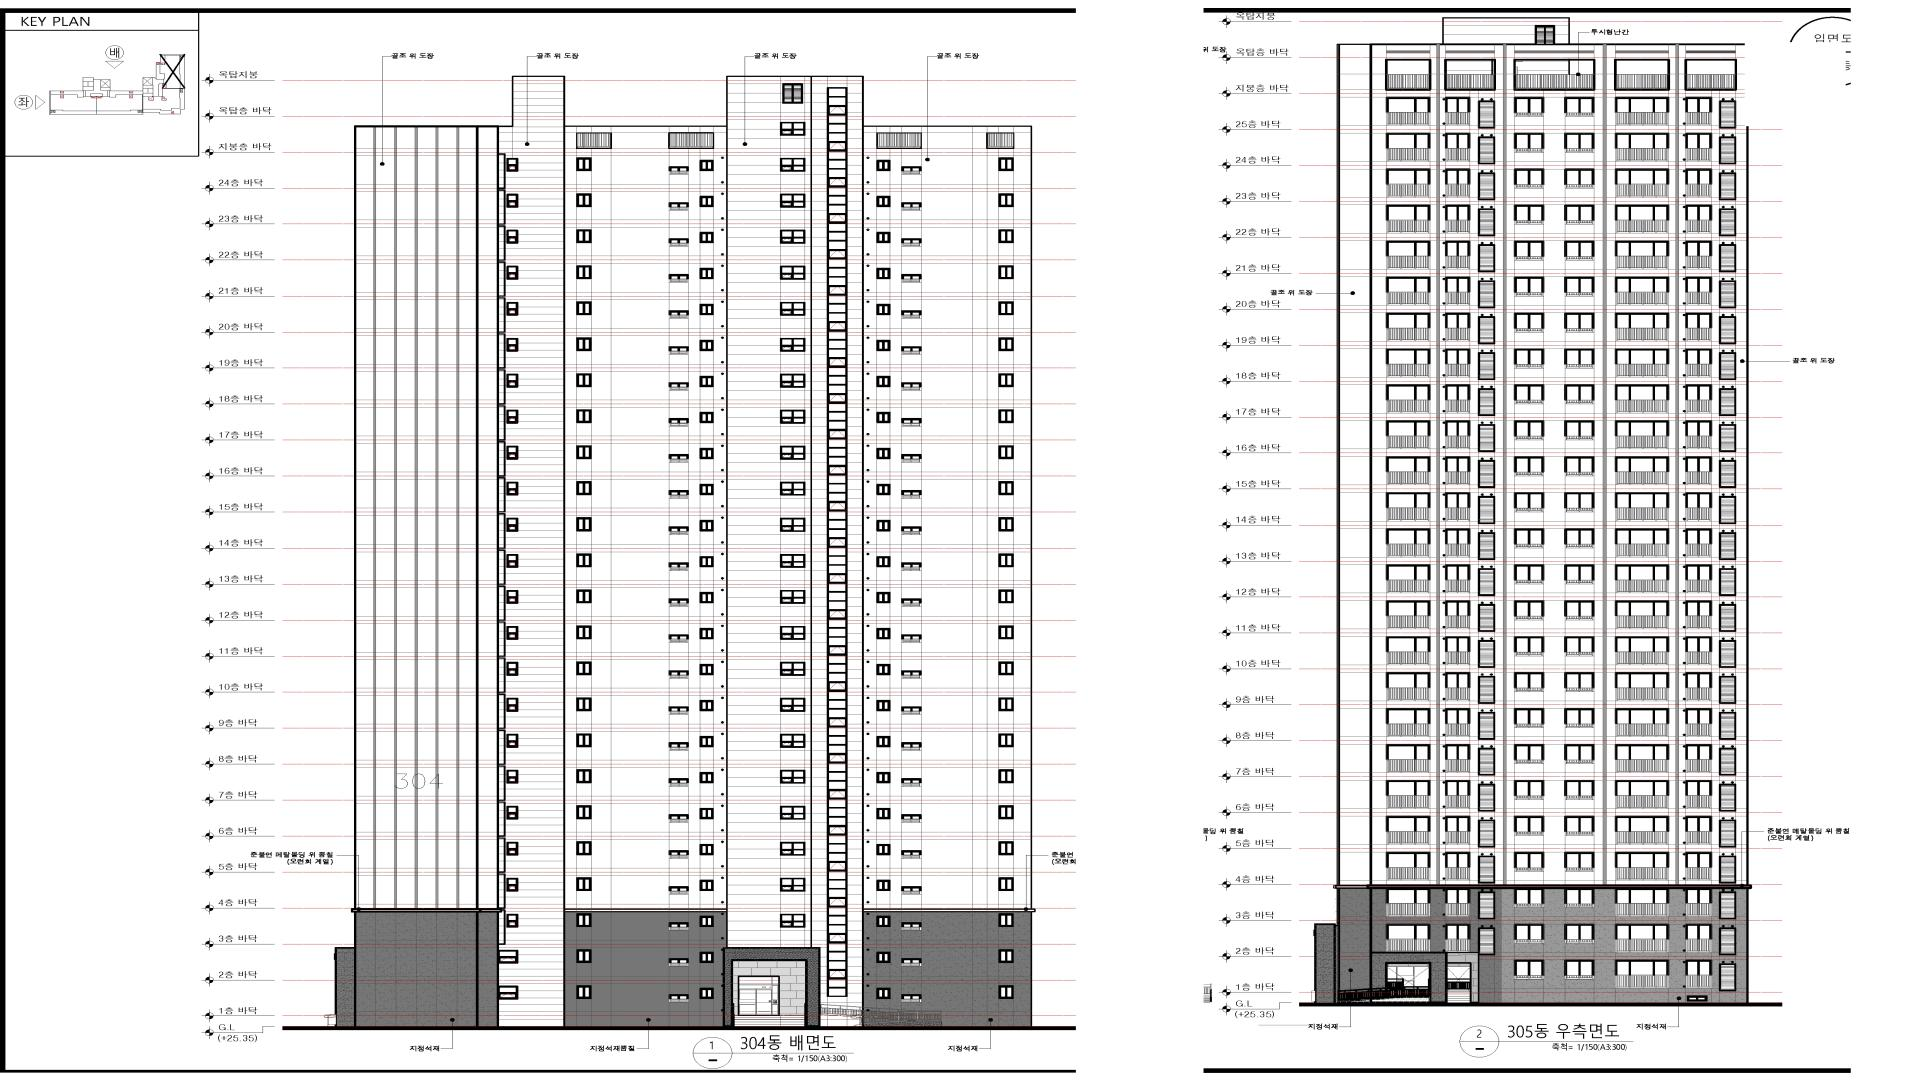door: (737, 976, 781, 1015), (1447, 963, 1470, 1004), (1387, 967, 1429, 989)
wall: (335, 75, 1033, 1030), (1315, 17, 1749, 1006)
window: (1514, 59, 1596, 91), (1614, 59, 1669, 91), (1444, 58, 1495, 91), (1684, 59, 1737, 91), (1615, 887, 1669, 916), (1615, 852, 1669, 881), (1615, 816, 1669, 845), (1615, 744, 1669, 773), (1615, 708, 1669, 737), (1615, 673, 1669, 702), (1615, 600, 1669, 629), (1615, 564, 1669, 593), (1615, 456, 1669, 485), (1615, 348, 1669, 377), (1615, 313, 1669, 342), (1615, 277, 1669, 306), (1615, 204, 1669, 233), (1615, 169, 1669, 198), (1615, 959, 1669, 988), (1615, 924, 1669, 953), (1614, 98, 1669, 125), (1615, 781, 1669, 808), (1615, 637, 1669, 665), (1615, 529, 1669, 556), (1615, 493, 1669, 521), (1615, 421, 1669, 448), (1615, 385, 1669, 413), (1615, 241, 1669, 269), (1615, 133, 1669, 161), (1385, 59, 1431, 91), (1386, 923, 1431, 952), (1386, 852, 1431, 881), (1386, 816, 1431, 845), (1386, 708, 1431, 737), (1386, 673, 1431, 702), (1386, 636, 1431, 665), (1386, 600, 1431, 629), (1386, 564, 1431, 593), (1386, 529, 1431, 558), (1386, 492, 1431, 521), (1386, 456, 1431, 485), (1386, 421, 1431, 450), (1386, 348, 1431, 377), (1386, 313, 1431, 342), (1386, 240, 1431, 269), (1386, 204, 1431, 233), (1386, 169, 1431, 198), (1386, 133, 1431, 162), (1386, 96, 1431, 125), (1386, 889, 1431, 916), (1386, 781, 1431, 808), (1386, 745, 1431, 773), (1386, 385, 1431, 413), (1386, 277, 1431, 305), (827, 943, 848, 997), (827, 258, 848, 295), (827, 510, 848, 547), (827, 583, 848, 620), (827, 654, 848, 691), (827, 727, 848, 764), (1685, 887, 1712, 916), (1685, 816, 1712, 845), (1685, 744, 1712, 773), (1685, 708, 1712, 737), (1685, 564, 1712, 593), (1685, 529, 1712, 558), (1685, 492, 1712, 521), (1685, 96, 1712, 125), (827, 115, 848, 150), (827, 150, 848, 186), (827, 187, 848, 223), (827, 223, 848, 258), (827, 295, 848, 331), (827, 331, 848, 367), (827, 368, 848, 404), (827, 404, 848, 439), (827, 439, 848, 475), (827, 475, 848, 510), (827, 547, 848, 583), (827, 691, 848, 727), (827, 764, 848, 799), (827, 799, 848, 835), (827, 835, 848, 870), (827, 870, 848, 906), (827, 906, 848, 942), (1685, 924, 1712, 952), (1685, 673, 1712, 700), (1685, 385, 1712, 413), (1445, 96, 1470, 125), (1445, 133, 1470, 162), (1445, 169, 1470, 198), (1445, 204, 1470, 233), (1445, 240, 1470, 269), (1445, 277, 1470, 306), (1445, 313, 1470, 342), (1445, 348, 1470, 377), (1445, 384, 1470, 413), (1445, 456, 1470, 485), (1445, 492, 1470, 521), (1445, 529, 1470, 558), (1445, 564, 1470, 593), (1445, 600, 1470, 629), (1445, 637, 1470, 666), (1445, 673, 1470, 702), (1445, 708, 1470, 737), (1445, 744, 1470, 773), (1445, 779, 1470, 808), (1445, 816, 1470, 845), (1445, 887, 1470, 916), (1687, 852, 1712, 881), (1685, 779, 1710, 808), (1685, 600, 1710, 629), (1687, 456, 1712, 485), (1685, 348, 1710, 377), (1687, 313, 1712, 342), (1687, 277, 1712, 306), (1687, 240, 1712, 269), (1685, 204, 1710, 233), (1687, 169, 1712, 198), (827, 620, 848, 654), (1445, 421, 1470, 448), (1445, 852, 1470, 880), (1445, 924, 1470, 952), (1687, 960, 1712, 988), (1687, 637, 1712, 665), (1685, 421, 1710, 448), (1687, 133, 1712, 161), (1514, 779, 1544, 800), (1564, 636, 1594, 657), (1514, 960, 1544, 980), (1514, 924, 1544, 944), (1514, 887, 1544, 907), (1514, 852, 1544, 872), (1514, 816, 1544, 836), (1514, 744, 1544, 764), (1514, 708, 1544, 728), (1514, 673, 1544, 692), (1514, 637, 1544, 657), (1514, 600, 1544, 620), (1514, 564, 1544, 584), (1514, 529, 1544, 549), (1514, 492, 1544, 512), (1514, 456, 1544, 476), (1514, 421, 1544, 440), (1514, 384, 1544, 404), (1514, 348, 1544, 368), (1514, 313, 1544, 332), (1514, 277, 1544, 297), (1514, 240, 1544, 260), (1514, 204, 1544, 224), (1514, 169, 1544, 189), (1514, 133, 1544, 153), (1514, 96, 1544, 116), (1564, 96, 1594, 116), (1564, 133, 1594, 153), (1564, 169, 1594, 189), (1564, 204, 1594, 224), (1564, 240, 1594, 260), (1564, 277, 1594, 297), (1564, 313, 1594, 332), (1564, 348, 1594, 368), (1564, 384, 1594, 404), (1564, 421, 1594, 440), (1564, 456, 1594, 476), (1564, 492, 1594, 512), (1564, 529, 1594, 549), (1564, 564, 1594, 584), (1564, 600, 1594, 620), (1564, 673, 1594, 692), (1564, 708, 1594, 728), (1564, 744, 1594, 764), (1564, 779, 1594, 799), (1564, 816, 1594, 836), (1564, 852, 1594, 872), (1564, 887, 1594, 907), (1564, 924, 1594, 944), (1564, 960, 1594, 980), (827, 87, 848, 115), (1477, 564, 1495, 596), (1718, 960, 1737, 992), (1718, 852, 1737, 884), (1718, 816, 1737, 848), (1718, 708, 1737, 740), (1718, 673, 1737, 704), (1718, 600, 1737, 632), (1718, 564, 1737, 596), (1718, 529, 1737, 560), (1718, 421, 1737, 452), (1718, 385, 1737, 417), (1718, 348, 1737, 380), (1718, 277, 1737, 309), (1718, 241, 1737, 273), (1718, 169, 1737, 200), (1718, 133, 1737, 165), (1718, 924, 1737, 955), (1718, 889, 1737, 919), (1718, 745, 1737, 775), (1718, 637, 1737, 667), (1718, 493, 1737, 524), (1718, 458, 1737, 488), (1718, 314, 1737, 344), (1718, 206, 1737, 236), (1718, 98, 1737, 128), (1478, 924, 1495, 956), (1478, 852, 1495, 884), (1478, 816, 1495, 848), (1478, 744, 1495, 775), (1478, 708, 1495, 740), (1478, 673, 1495, 704), (1478, 600, 1495, 632), (1478, 529, 1495, 560), (1478, 493, 1495, 525), (1478, 421, 1495, 452), (1478, 385, 1495, 417), (1478, 313, 1495, 344), (1478, 277, 1495, 309), (1478, 169, 1495, 200), (1478, 133, 1495, 165), (1478, 889, 1495, 919), (1478, 781, 1495, 811), (1478, 637, 1495, 667), (1478, 458, 1495, 488), (1478, 349, 1495, 380), (1478, 241, 1495, 272), (1478, 206, 1495, 236), (1478, 98, 1495, 128), (1718, 781, 1735, 811), (782, 83, 803, 104), (1535, 25, 1556, 45), (779, 698, 806, 712), (779, 589, 806, 604), (779, 373, 806, 388), (779, 338, 806, 352), (779, 265, 806, 280), (779, 229, 806, 244), (779, 121, 806, 136), (781, 841, 806, 856), (781, 806, 806, 820), (781, 554, 806, 568), (781, 481, 806, 496), (779, 914, 806, 927), (779, 878, 806, 891), (779, 770, 806, 783), (779, 735, 806, 748), (779, 626, 806, 640), (779, 518, 806, 531), (779, 446, 806, 459), (779, 410, 806, 423), (779, 302, 806, 315), (779, 194, 806, 207), (779, 158, 806, 171), (781, 662, 806, 675), (497, 985, 518, 1000), (498, 949, 518, 964), (576, 157, 592, 171), (576, 265, 592, 280), (576, 301, 592, 315), (576, 409, 592, 423), (576, 517, 592, 531), (576, 625, 592, 640), (576, 733, 592, 748), (576, 769, 592, 783), (576, 877, 592, 891), (576, 985, 592, 1000), (998, 985, 1014, 1000), (998, 877, 1014, 891), (998, 769, 1014, 783), (998, 733, 1014, 748), (998, 625, 1014, 640), (998, 589, 1014, 604), (998, 517, 1014, 531), (998, 409, 1014, 423), (998, 373, 1014, 388), (998, 301, 1014, 315), (998, 265, 1014, 280), (998, 229, 1014, 244), (998, 157, 1014, 171), (576, 194, 592, 207), (576, 229, 592, 243), (576, 338, 592, 351), (576, 373, 592, 386), (576, 446, 592, 459), (576, 481, 592, 495), (576, 554, 592, 567), (576, 589, 592, 603), (576, 662, 592, 675), (576, 698, 592, 711), (576, 806, 592, 819), (576, 841, 592, 855), (576, 914, 592, 927), (576, 949, 592, 963), (998, 949, 1014, 963), (998, 914, 1014, 927), (998, 841, 1014, 855), (998, 806, 1014, 819), (998, 698, 1014, 711), (998, 662, 1014, 675), (998, 554, 1014, 567), (998, 481, 1014, 495), (998, 446, 1014, 459), (998, 338, 1014, 351), (998, 194, 1014, 207), (901, 202, 922, 211), (901, 454, 922, 463), (901, 526, 922, 535), (901, 670, 922, 679), (901, 814, 922, 823), (669, 957, 690, 967), (669, 922, 690, 931), (669, 670, 690, 679), (669, 526, 690, 535), (669, 454, 690, 463), (669, 310, 690, 319), (669, 202, 690, 211), (506, 229, 518, 244), (506, 302, 518, 316), (506, 338, 518, 352), (506, 446, 518, 460), (506, 481, 518, 496), (506, 554, 518, 568), (506, 589, 518, 604), (506, 698, 518, 712), (506, 806, 518, 820), (506, 841, 518, 856), (699, 988, 713, 1000), (699, 915, 713, 927), (699, 880, 713, 891), (699, 844, 713, 856), (699, 771, 713, 783), (699, 736, 713, 748), (699, 663, 713, 675), (699, 628, 713, 640), (699, 520, 713, 531), (699, 447, 713, 459), (699, 411, 713, 423), (699, 376, 713, 388), (699, 303, 713, 315), (699, 268, 713, 280), (877, 195, 891, 207), (876, 303, 890, 315), (876, 376, 890, 388), (876, 520, 890, 531), (876, 736, 890, 748), (876, 844, 890, 856), (876, 880, 890, 891), (876, 915, 890, 927), (876, 988, 890, 1000), (901, 166, 922, 174), (901, 239, 922, 247), (901, 274, 922, 282), (901, 310, 922, 318), (901, 347, 922, 355), (901, 382, 922, 390), (901, 418, 922, 426), (901, 491, 922, 498), (901, 563, 922, 571), (901, 599, 922, 607), (901, 634, 922, 642), (901, 707, 922, 715), (901, 742, 922, 750), (901, 778, 922, 786), (901, 851, 922, 858), (901, 886, 922, 894), (901, 922, 922, 930), (901, 959, 922, 967), (901, 994, 922, 1002), (669, 994, 690, 1002), (669, 851, 690, 858), (669, 778, 690, 786), (669, 742, 690, 750), (669, 707, 690, 715), (669, 634, 690, 642), (669, 563, 690, 571), (669, 418, 690, 426), (669, 382, 690, 390), (669, 274, 690, 282), (669, 166, 690, 174), (506, 158, 518, 171), (506, 194, 518, 207), (506, 266, 518, 280), (506, 375, 518, 388), (506, 410, 518, 423), (506, 518, 518, 531), (506, 626, 518, 640), (506, 662, 518, 675), (506, 735, 518, 748), (506, 770, 518, 783), (506, 878, 518, 891), (506, 914, 518, 927), (700, 160, 713, 171), (877, 160, 890, 171), (877, 268, 890, 280), (877, 411, 890, 423), (877, 484, 890, 496), (877, 592, 890, 604), (877, 628, 890, 640), (877, 663, 890, 675), (877, 771, 890, 783), (669, 886, 688, 894), (669, 815, 688, 823), (669, 599, 688, 607), (669, 491, 688, 498), (669, 347, 688, 355), (669, 239, 688, 247), (699, 952, 713, 963), (699, 808, 713, 819), (699, 700, 713, 711), (699, 592, 713, 603), (699, 556, 713, 567), (699, 484, 713, 495), (699, 340, 713, 351), (699, 232, 713, 243), (699, 196, 713, 207), (876, 232, 890, 243), (876, 448, 890, 459), (876, 952, 890, 963), (877, 340, 890, 351), (877, 556, 890, 567), (877, 700, 890, 711), (877, 808, 890, 819)
